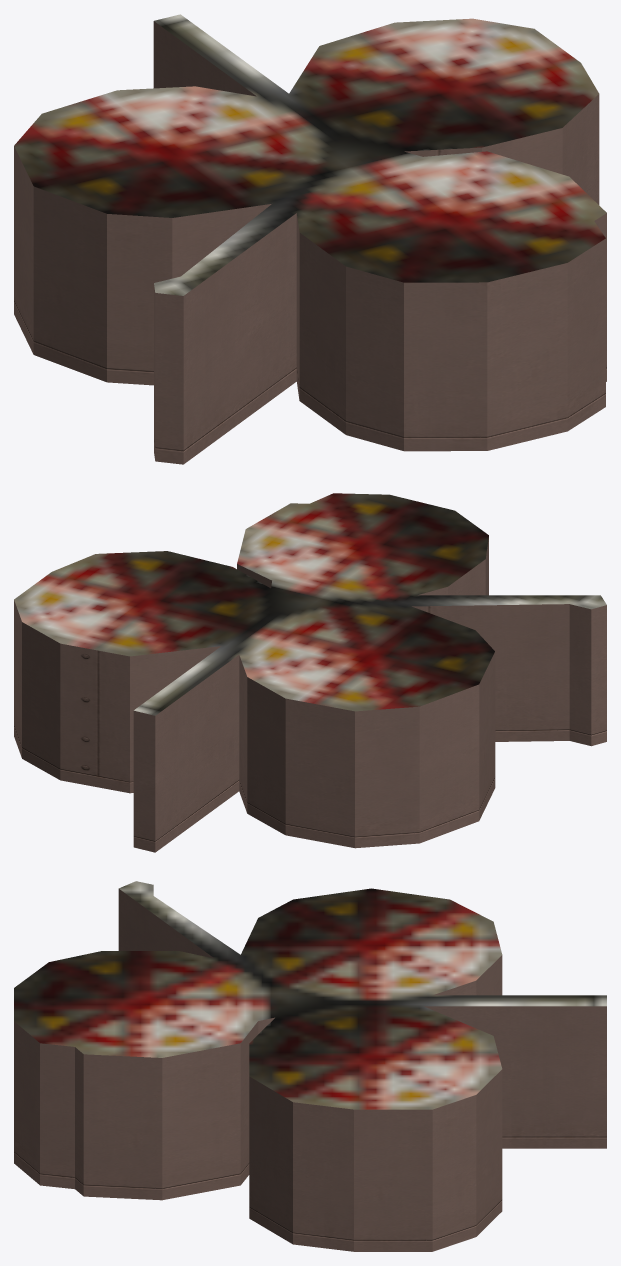
Rendered from fuel_tank_heavy_17.glb.
3 renders of one model, top to bottom at view 1: azimuth 30°, elevation 25°; view 2: azimuth 150°, elevation 25°; view 3: azimuth 270°, elevation 25°, orthographic. The views are drawn at different scales.
Parts seen in each view (by area): view 1: buildings/saxarba/fuel_tanks/fuel_tank_heavy_17; view 2: buildings/saxarba/fuel_tanks/fuel_tank_heavy_17; view 3: buildings/saxarba/fuel_tanks/fuel_tank_heavy_17.
Part boxes in pixels (<box>): buildings/saxarba/fuel_tanks/fuel_tank_heavy_17: <box>14,14,606,464</box>; buildings/saxarba/fuel_tanks/fuel_tank_heavy_17: <box>14,493,606,852</box>; buildings/saxarba/fuel_tanks/fuel_tank_heavy_17: <box>14,881,606,1251</box>.
Size of the model in its own units: 62 by 18 by 68.
